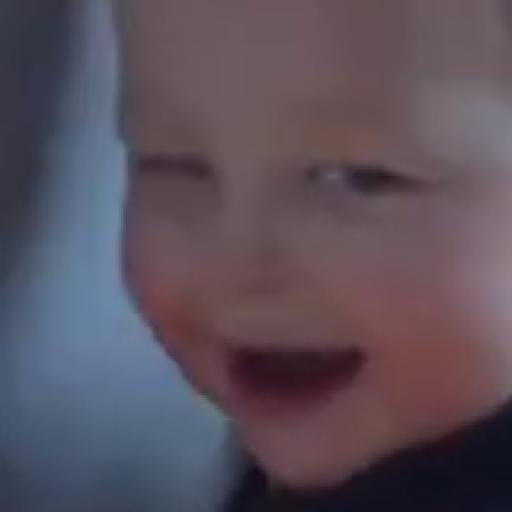Autism: (105, 11, 512, 512)
